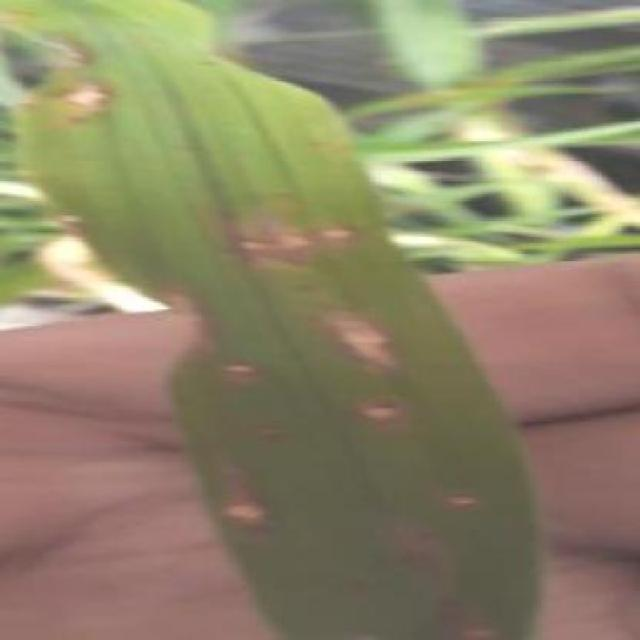Bacterial_Leaf_Blight: (311, 284, 409, 382), (218, 208, 314, 280), (43, 62, 125, 132), (194, 472, 269, 536), (344, 388, 422, 435), (432, 600, 523, 640), (429, 472, 500, 519), (318, 194, 364, 263), (206, 345, 268, 384)
